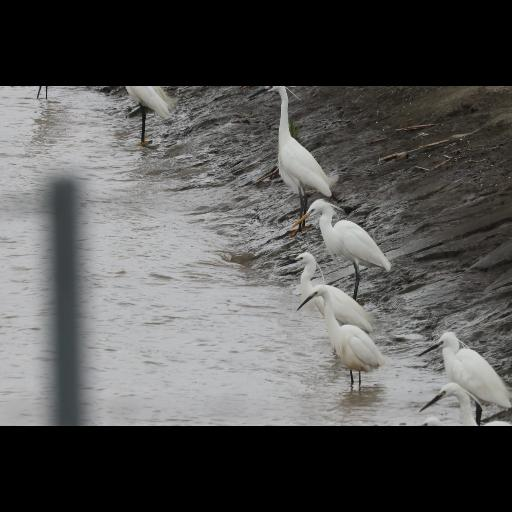chinese_egret: (292, 199, 392, 295)
